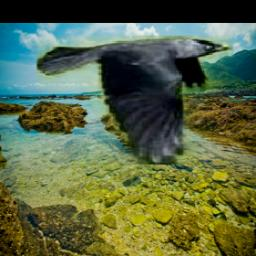Crow: (35, 37, 232, 165)
